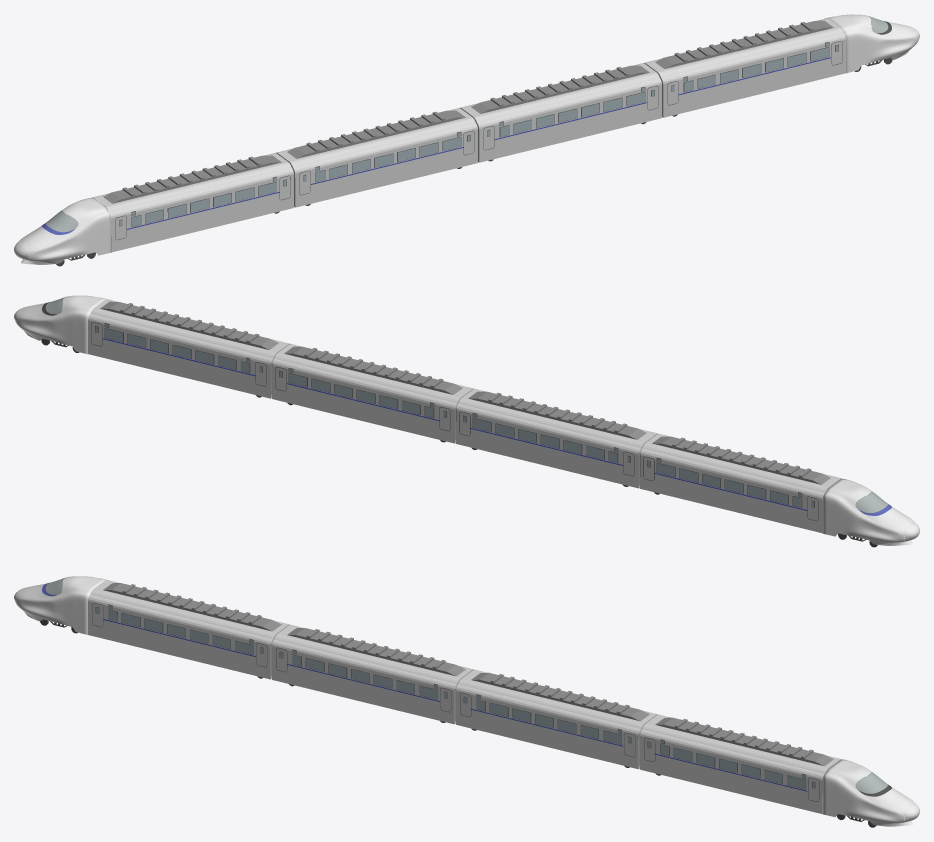
Rendered from train.gltf.
3 renders of one model, top to bottom at view 1: azimuth 30°, elevation 25°; view 2: azimuth 150°, elevation 25°; view 3: azimuth 330°, elevation 25°, orthographic.
Parts seen in each view (by area): view 1: 动车03; view 2: 动车03; view 3: 动车03.
Boxes of the visible parts, bbox=[...] form: 动车03: bbox=[14, 14, 919, 266]; 动车03: bbox=[14, 295, 919, 547]; 动车03: bbox=[14, 576, 919, 827].
Size of the model in its own units: 72.36 by 3.86 by 3.31.
